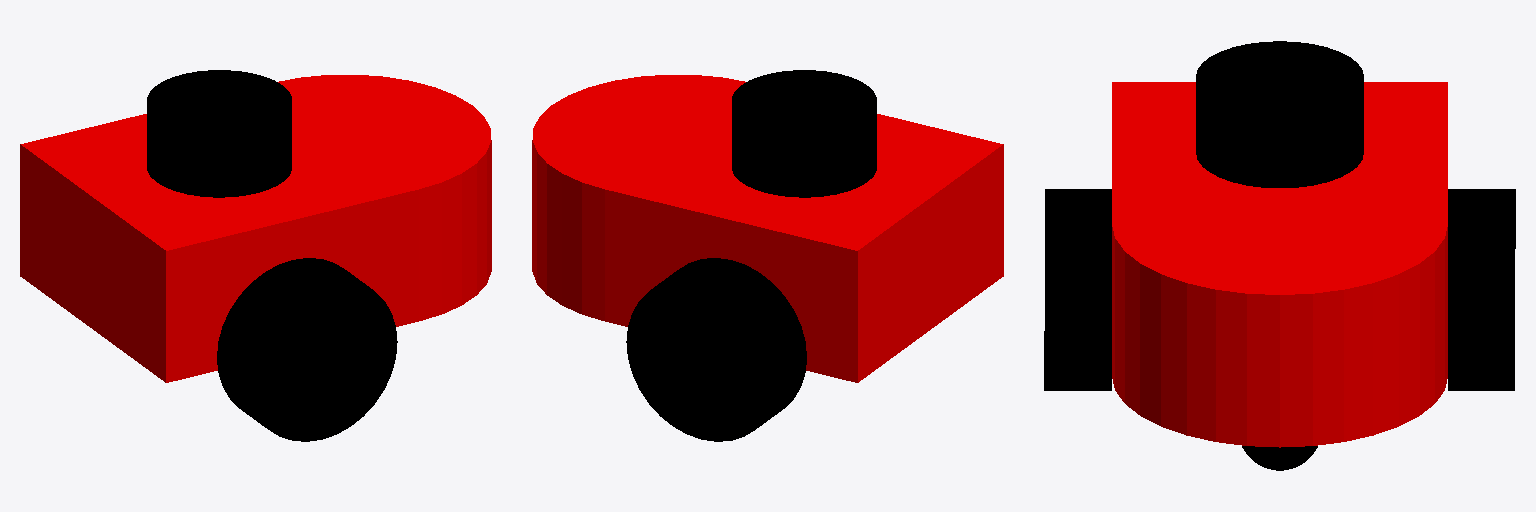
robot.urdf — diff_drive:
<?xml version="1.0" ?>
<robot name="diff_drive">

    <gazebo>
        <plugin
            filename="gz-sim-diff-drive-system"
            name="gz::sim::systems::DiffDrive">
            <left_joint>motor1</left_joint>
            <right_joint>motor2</right_joint>
            <wheel_separation>0.1</wheel_separation>
            <wheel_radius>0.03</wheel_radius>
            <odom_publish_frequency>1</odom_publish_frequency>
            <topic>cmd_vel</topic>
        </plugin>

        <plugin
            filename="gz-sim-joint-state-publisher-system"
            name="gz::sim::systems::JointStatePublisher">
        </plugin>

        <plugin
            filename="ignition-gazebo-pose-publisher-system"
            name="ignition::gazebo::systems::PosePublisher">
            <publish_link_pose>true</publish_link_pose>

            <use_pose_vector_msg>true</use_pose_vector_msg>
        </plugin>
    </gazebo>

    <gazebo reference="base_link">
        <visual>
            <material>
                <ambient>1.0 0.0 0.0 1</ambient>
                <diffuse>1.0 0.0 0.0 1</diffuse>
                <specular>1.0 0.0 0.0 1</specular>
            </material>
        </visual>
    </gazebo>

    <gazebo reference="front_frame">
        <visual>
            <material>
                <ambient>1.0 0.0 0.0 1</ambient>
                <diffuse>1.0 0.0 0.0 1</diffuse>
                <specular>1.0 0.0 0.0 1</specular>
            </material>
        </visual>
    </gazebo>

    <gazebo reference="lidar">
        <sensor name='gpu_lidar' type='gpu_lidar'>"
            <pose relative_to='lidar'>0 0 0 0 0 0</pose>
            <ignition_frame_id>lidar</ignition_frame_id>
            <topic>scan</topic>
            <update_rate>10</update_rate>
            <ray>
                <scan>
                    <horizontal>
                        <samples>640</samples>
                        <resolution>1</resolution>
                        <min_angle>-3.14</min_angle>
                        <max_angle>3.14</max_angle>
                    </horizontal>
                    <vertical>
                        <samples>1</samples>
                        <resolution>0.01</resolution>
                        <min_angle>0</min_angle>
                        <max_angle>0</max_angle>
                    </vertical>
                </scan>
                <range>
                    <min>0.08</min>
                    <max>10.0</max>
                    <resolution>0.01</resolution>
                </range>
            </ray>
            <always_on>1</always_on>
            <visualize>true</visualize>
        </sensor>
    </gazebo>

    <gazebo reference="wheel1">
        <visual>
            <material>
                <ambient>0.0 0.0 0.0 1</ambient>
                <diffuse>0.0 0.0 0.0 1</diffuse>
                <specular>0.0 0.0 0.0 1</specular>
            </material>
        </visual>
    </gazebo>
    
    <gazebo reference="wheel2">
        <visual>
            <material>
                <ambient>0.0 0.0 0.0 1</ambient>
                <diffuse>0.0 0.0 0.0 1</diffuse>
                <specular>0.0 0.0 0.0 1</specular>
            </material>
        </visual>
    </gazebo>

    <!-- Colors Rviz -->
    <material name="red">
        <color rgba="1.0 0.0 0.0 1.0"/>
    </material>

    <material name="black">
        <color rgba="0.0 0.0 0.0 1.0"/>
    </material>

    <!-- Robot body -->
    <link name="base_link">
        <inertial>
            <mass value="1.14395"/>
            <inertia
                ixx="0.095329"
                ixy="0"
                ixz="0"
                iyy="0.381317"
                iyz="0"
                izz="0.476646"/>
        </inertial>
        <visual>
            <geometry>
                <box size="0.1 0.1 0.05"/>
            </geometry>
            <material name="red"/>
        </visual>
        <collision>
            <geometry>
                <box size="0.1 0.1 0.05"/>
            </geometry>
        </collision>
    </link>

    <joint name="base_link_to_front_frame" type="fixed">
        <parent link="base_link"/>
        <child link="front_frame"/>
        <origin xyz="0.05 0 0" rpy="0 0 0"/>
    </joint>

    <link name="front_frame">
        <inertial>
            <mass value="1.14395"/>
            <inertia
                ixx="0.095329"
                ixy="0"
                ixz="0"
                iyy="0.381317"
                iyz="0"
                izz="0.476646"/>
        </inertial>
        <visual>
            <origin xyz="0 0 0" rpy="0 0 0"/>
            <geometry>
                <cylinder radius="0.05" length="0.05"/>
            </geometry>
            <material name="red"/>
        </visual>
        <collision>
            <origin xyz="0 0 0" rpy="0 0 0"/>
            <geometry>
                <cylinder radius="0.05" length="0.05"/>
            </geometry>
        </collision>
    </link>

    <joint name="base_link_to_lidar" type="fixed">
        <parent link="base_link"/>
        <child link="lidar"/>
        <origin xyz="0 0 0.0375" rpy="0 0 0"/>
    </joint>

    <link name="lidar">
        <inertial>
            <mass value="0.5"/>
            <inertia
                ixx="0.000104"
                ixy="0"
                ixz="0"
                iyy="0.000104"
                iyz="0"
                izz="0.000156"/>
        </inertial>
        <visual>
            <origin xyz="0 0 0" rpy="0 0 0"/>
            <geometry>
                <cylinder radius="0.025" length="0.025"/>
            </geometry>
            <material name="black"/>
        </visual>
        <collision>
            <origin xyz="0 0 0" rpy="0 0 0"/>
            <geometry>
                <cylinder radius="0.025" length="0.025"/>
            </geometry>
        </collision>
    </link>

    <!-- Wheel 1 -->
    <joint name="motor1" type="continuous">
        <parent link="base_link"/>
        <child link="wheel1"/>
        <axis xyz="0 0 -1"/>
        <limit effort="10" velocity="10"/>
        <origin xyz="0 0.06 -0.02" rpy="1.57 0 0"/>
    </joint>

    <link name="wheel1">
        <inertial>
            <mass value="0.5"/>
            <inertia
                ixx="0.000129"
                ixy="0"
                ixz="0"
                iyy="0.000129"
                iyz="0"
                izz="0.000225"/>
        </inertial>
        <visual>
            <origin xyz="0 0 0" rpy="0 0 0"/>
            <geometry>
                <cylinder radius="0.03" length="0.02"/>
            </geometry>
            <material name="black"/>
        </visual>
        <collision>
            <origin xyz="0 0 0" rpy="0 0 0"/>
            <geometry>
                <cylinder radius="0.03" length="0.02"/>
            </geometry>
        </collision>
    </link>

    <!-- Wheel 2 -->
    <joint name="motor2" type="continuous">
        <parent link="base_link"/>
        <child link="wheel2"/>
        <axis xyz="0 0 -1"/>
        <limit effort="10" velocity="10"/>
        <origin xyz="0 -0.06 -0.02" rpy="1.57 0 0"/>
    </joint>

    <link name="wheel2">
        <inertial>
            <mass value="0.5"/>
            <inertia
                ixx="0.000129"
                ixy="0"
                ixz="0"
                iyy="0.000129"
                iyz="0"
                izz="0.000225"/>
        </inertial>
        <visual>
            <origin xyz="0 0 0" rpy="0 0 0"/>
            <geometry>
                <cylinder radius="0.03" length="0.02"/>
            </geometry>
            <material name="black"/>
        </visual>
        <collision>
            <origin xyz="0 0 0" rpy="0 0 0"/>
            <geometry>
                <cylinder radius="0.03" length="0.02"/>
            </geometry>
        </collision>
    </link>

    <!-- Caster Wheel -->
    <joint name="base_link_to_caster" type="fixed">
        <parent link="base_link"/>
        <child link="caster"/>
        <origin xyz="0.06 0 -0.0375" rpy="0 0 0"/>
    </joint>

    <link name="caster">
        <inertial>
            <mass value="0.5"/>
            <inertia
                ixx="0.000031"
                ixy="0"
                ixz="0"
                iyy="0.000031"
                iyz="0"
                izz="0.000031"/>
        </inertial>
        <visual>
            <origin xyz="0 0 0" rpy="0 0 0"/>
            <geometry>
                <sphere radius="0.0125"/>
            </geometry>
            <material name="black"/>
        </visual>
        <collision>
            <origin xyz="0 0 0" rpy="0 0 0"/>
            <geometry>
                <sphere radius="0.0125"/>
            </geometry>
        </collision>
    </link>

</robot>

--- Render facts (derived) ---
3 views of the same robot in one strip: view 1: azimuth 30°, elevation 25°; view 2: azimuth 150°, elevation 25°; view 3: azimuth 270°, elevation 25° (orthographic).
Robot: diff_drive — 6 links, 5 joints (2 continuous, 3 fixed); root link base_link; default pose: every joint at zero.
Links seen in each view (by area): view 1: base_link, front_frame, wheel2, lidar; view 2: base_link, front_frame, wheel1, lidar; view 3: front_frame, base_link, lidar, wheel1, wheel2, caster.
Link boxes in pixels (<box>): base_link: <box>20,97,418,382</box>; front_frame: <box>272,75,491,320</box>; wheel2: <box>217,258,397,441</box>; lidar: <box>147,70,291,197</box>; base_link: <box>605,100,1003,382</box>; front_frame: <box>532,75,745,320</box>; wheel1: <box>626,258,806,441</box>; lidar: <box>732,70,876,197</box>; front_frame: <box>1112,162,1447,447</box>; base_link: <box>1112,82,1447,223</box>; lidar: <box>1196,41,1363,187</box>; wheel1: <box>1448,189,1515,390</box>; wheel2: <box>1044,189,1111,390</box>; caster: <box>1242,446,1317,470</box>.
Bounding box of the posed robot: 0.15 × 0.14 × 0.1 m (x, y, z).
Geometry: primitives only (box / cylinder / sphere), no mesh files.